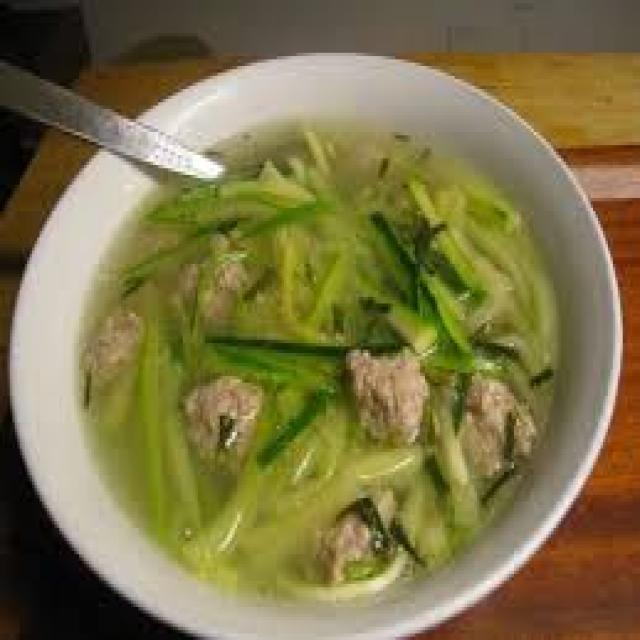canh bau: (86, 129, 554, 591)
